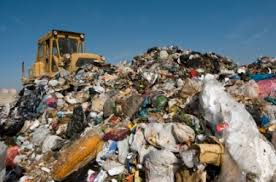garbage: (33, 80, 276, 181), (5, 105, 275, 182), (120, 58, 276, 180)
